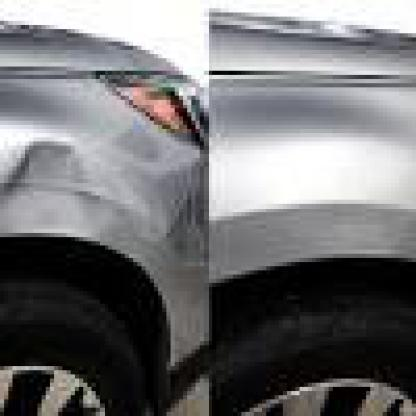dent: (2, 126, 94, 214)
